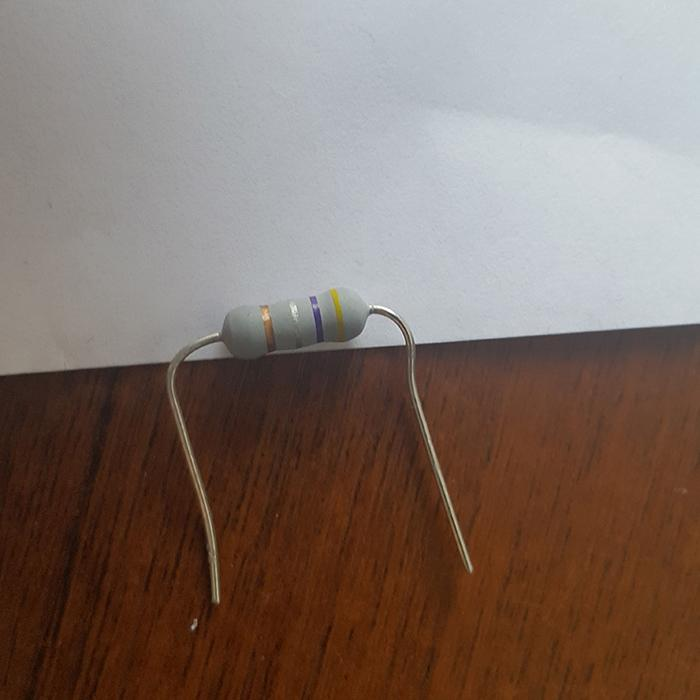resistor: (217, 283, 370, 360)
